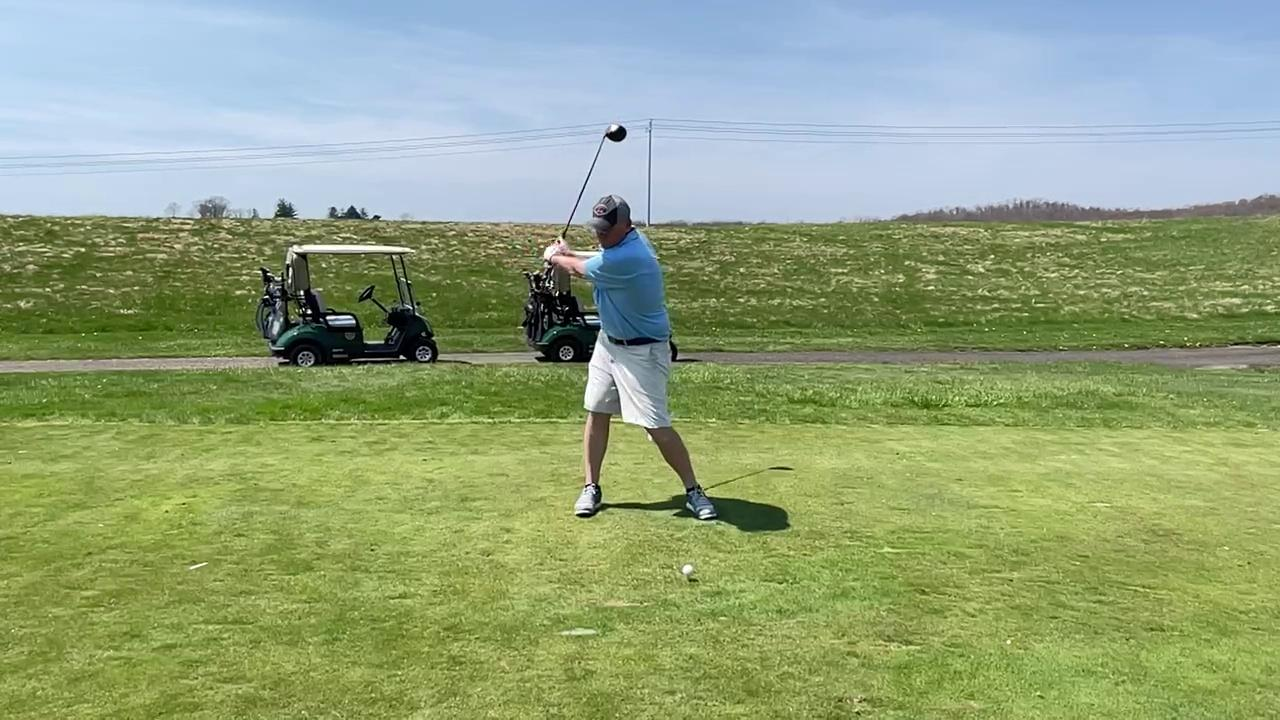ClubHead: (599, 118, 630, 152)
GolfBall: (680, 562, 696, 579)
